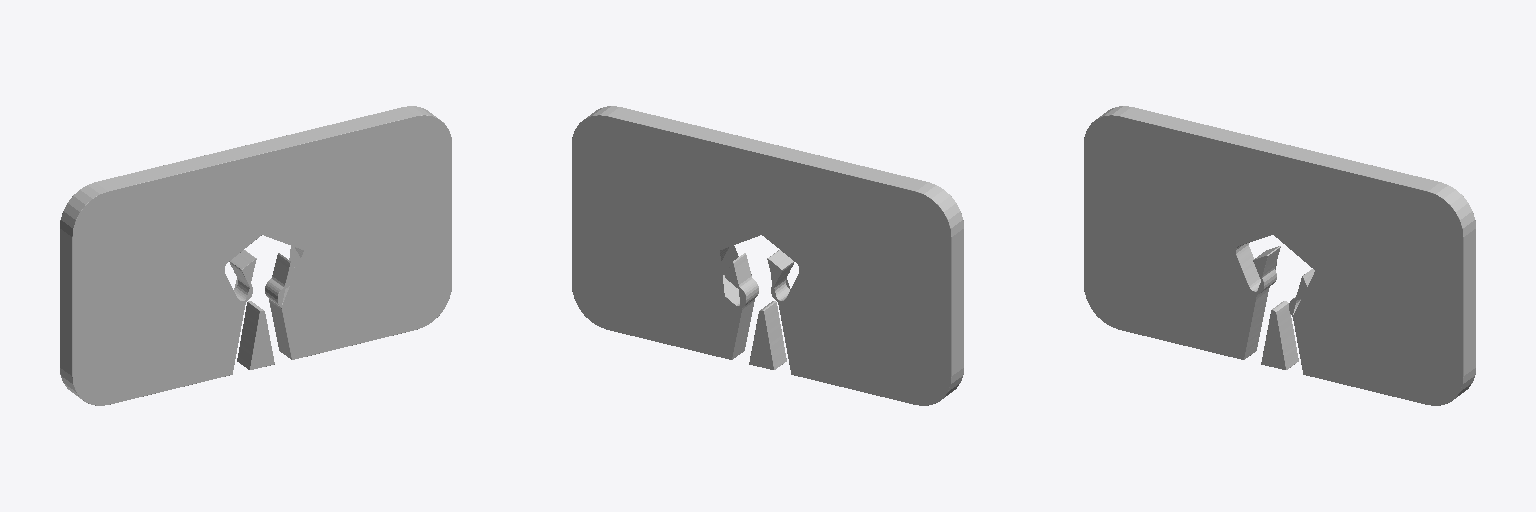
3 renders of one model, left to right at view 1: azimuth 30°, elevation 25°; view 2: azimuth 150°, elevation 25°; view 3: azimuth 330°, elevation 25°, orthographic.
Visible parts, largest first — view 1: wall_32; view 2: wall_32; view 3: wall_32.
Boxes of the visible parts, <box> form: wall_32: <box>60,106,451,405</box>; wall_32: <box>572,106,963,405</box>; wall_32: <box>1084,106,1475,405</box>.
Bounding box in the file's own units: 12 × 6.45 × 0.7.